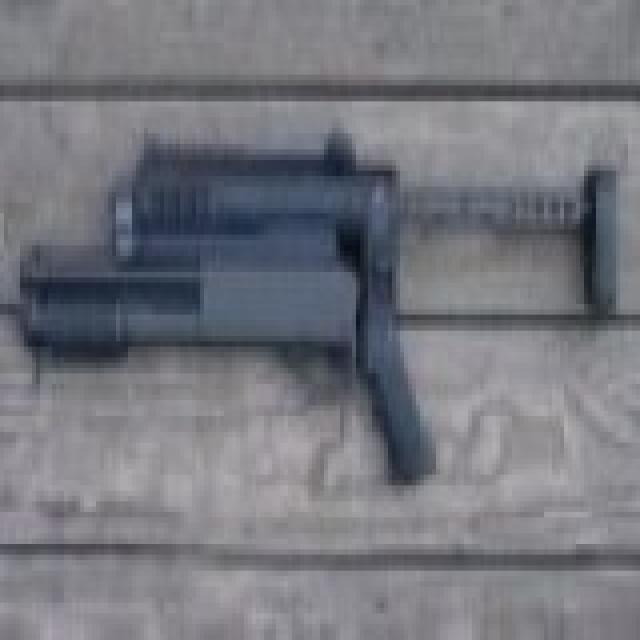Gun: (12, 110, 622, 484)
